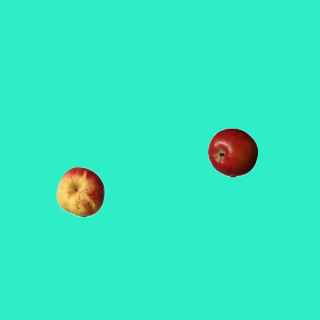Apple Braeburn: (207, 127, 257, 177)
Apple Red Yellow 1: (55, 166, 105, 216)
